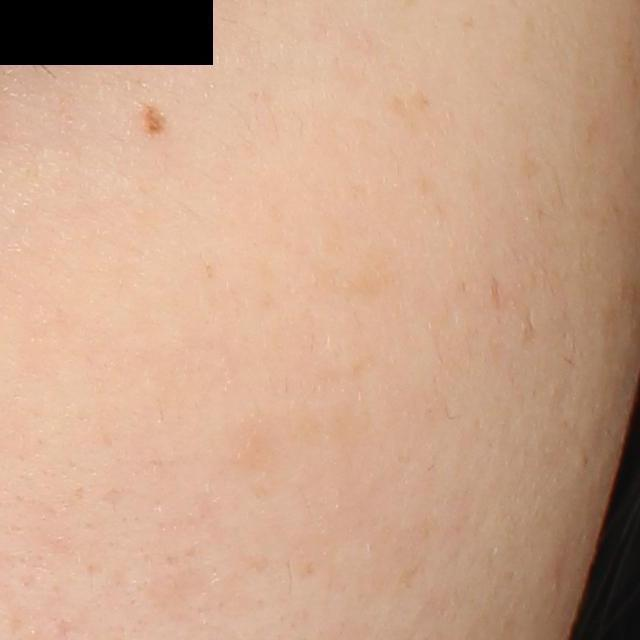melasma: (387, 89, 430, 125)
nevus: (137, 105, 173, 141)
